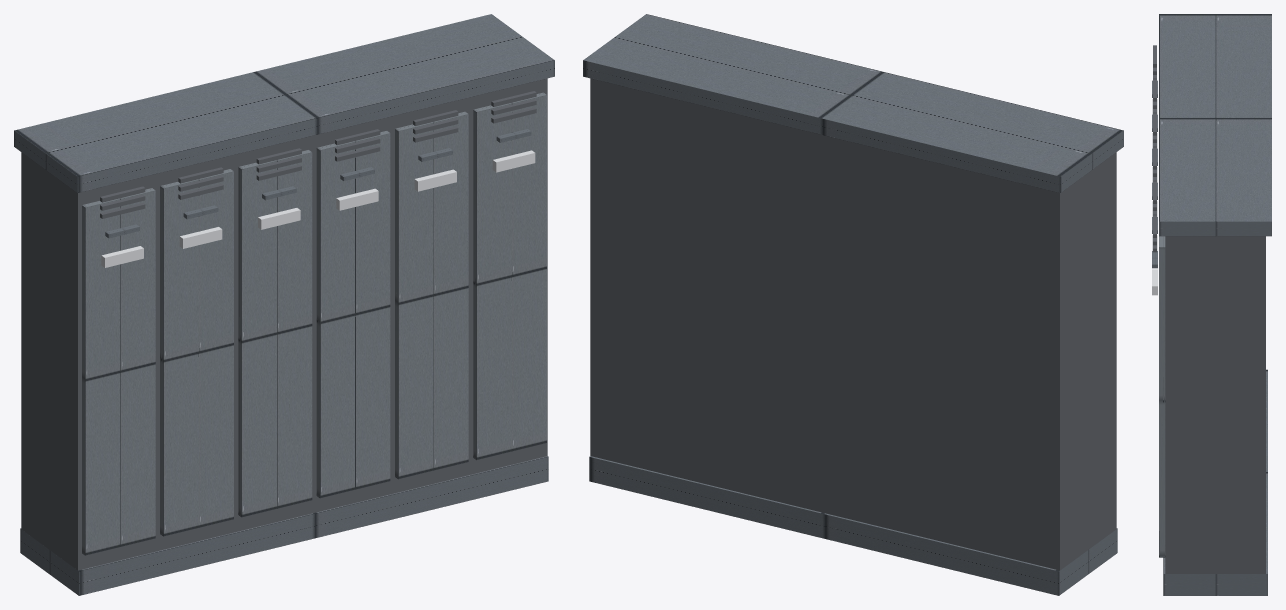
File: fire-and-emergency-services-station-locker-bank-e9b25a57__29892.glb
The picture shows the model from 3 angles, left to right: view 1: azimuth 30°, elevation 25°; view 2: azimuth 150°, elevation 25°; view 3: azimuth 270°, elevation 25°; orthographic projection. The views are drawn at different scales.
Visible parts, largest first — view 1: station-locker-bank; view 2: station-locker-bank; view 3: station-locker-bank.
Boxes of the visible parts, x1,y1,x2,y2 form: station-locker-bank: [14, 14, 554, 595]; station-locker-bank: [583, 14, 1123, 595]; station-locker-bank: [1152, 14, 1271, 595].
Size of the model in its own units: 2.44 by 2.06 by 0.595.
4 materials, 2 textured.
